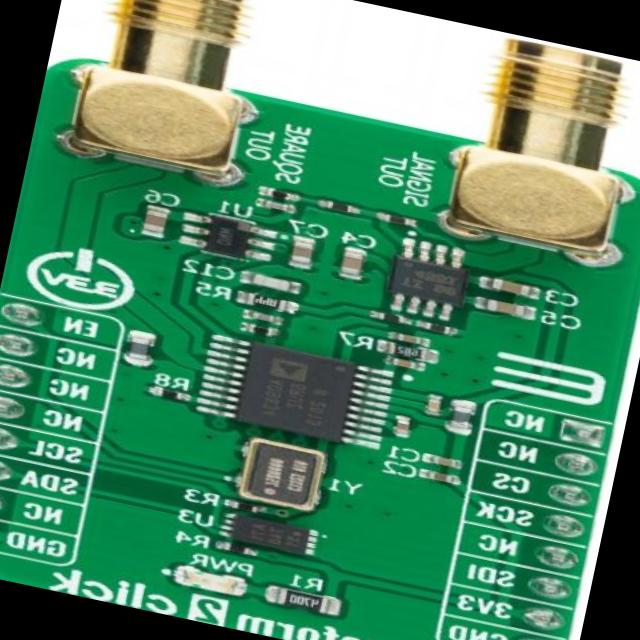IC: (222, 338, 371, 448), (385, 245, 470, 323), (220, 514, 314, 558), (190, 210, 266, 263)
LED: (171, 566, 243, 599)
capacitor: (484, 298, 540, 324), (118, 331, 155, 365), (234, 269, 292, 290), (332, 248, 364, 281), (259, 198, 305, 220), (140, 206, 168, 238), (486, 277, 531, 296), (444, 405, 474, 432), (290, 238, 317, 268), (413, 468, 454, 486), (390, 328, 422, 344), (242, 308, 278, 322), (424, 452, 454, 468), (389, 356, 417, 372), (392, 416, 411, 437), (426, 396, 443, 418)
connector: (430, 30, 640, 263), (55, 0, 277, 186)
resistor: (266, 583, 340, 619), (236, 287, 294, 313), (374, 206, 421, 233), (142, 380, 182, 402), (238, 318, 280, 338), (262, 185, 302, 202), (386, 342, 424, 359), (324, 199, 354, 217)
